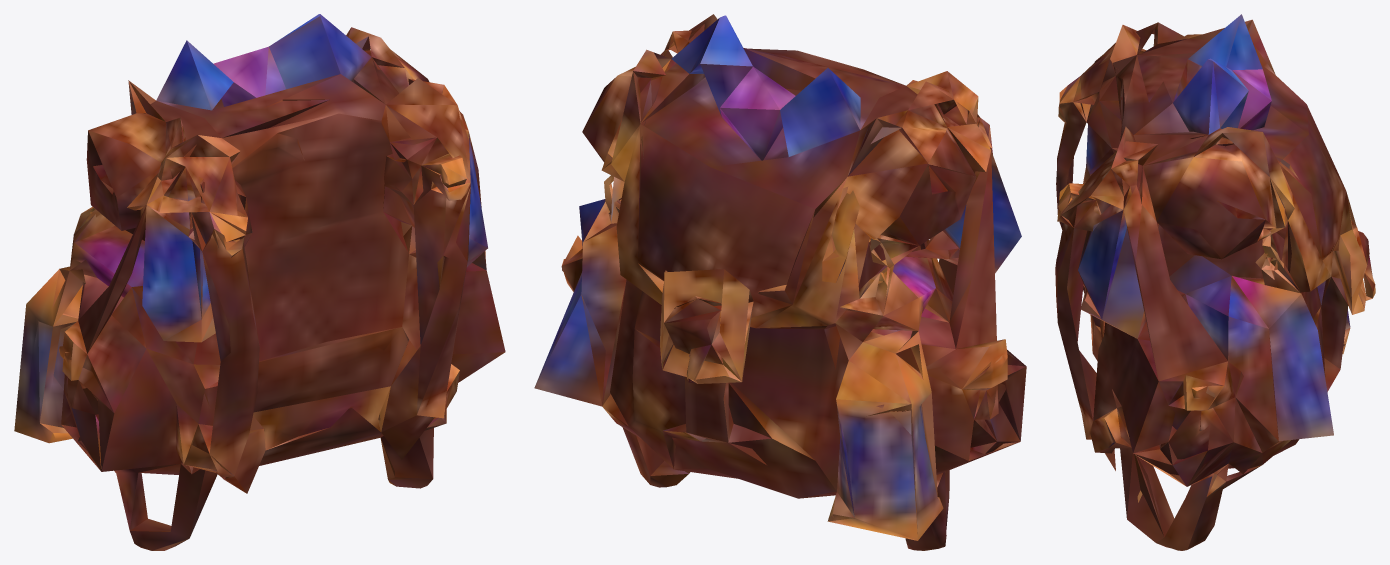
The model's file is crystal-backpack.glb.
3 views of the same model, side by side, from view 1: azimuth 30°, elevation 25°; view 2: azimuth 150°, elevation 25°; view 3: azimuth 270°, elevation 25° (orthographic). The views are drawn at different scales.
Bounding box in the file's own units: 1.74 × 1.9 × 1.22.
Materials: 1 (1 with a texture image).
